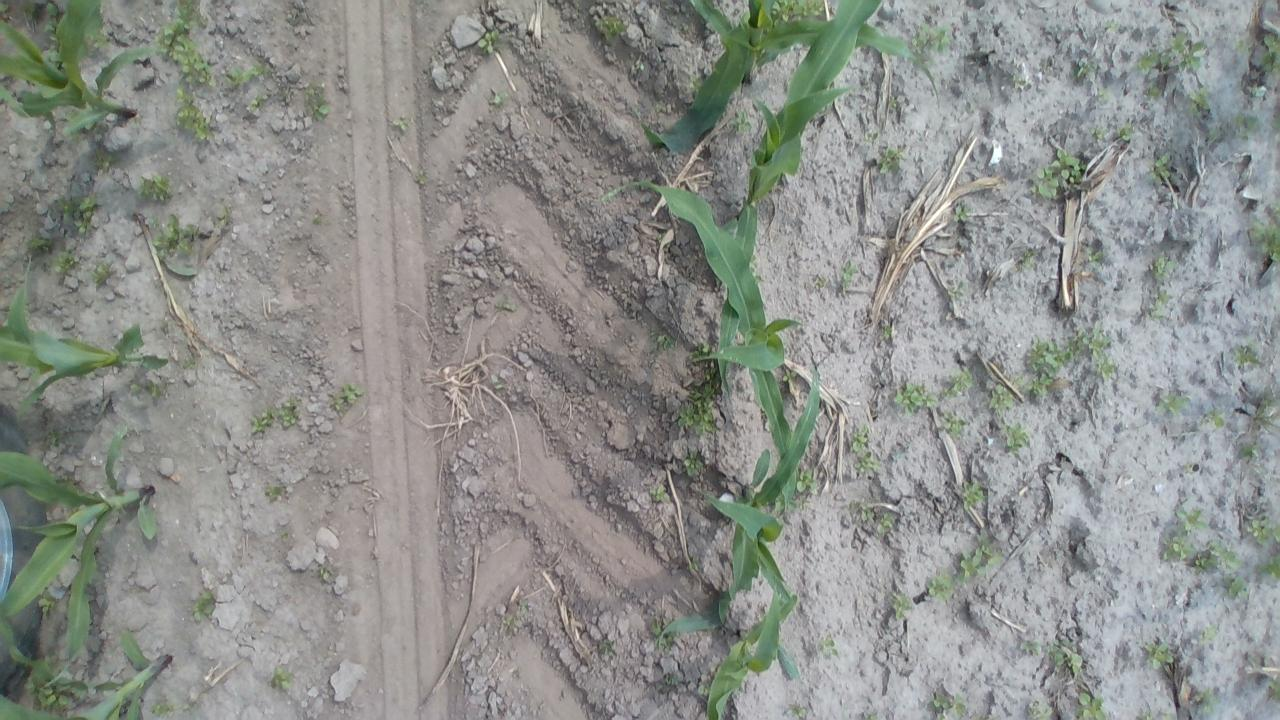Maize: (598, 166, 818, 499), (712, 1, 887, 412), (618, 1, 942, 157), (672, 340, 822, 665), (0, 426, 158, 666), (0, 253, 169, 424), (0, 0, 159, 141), (0, 617, 175, 720), (697, 589, 801, 720)
Weeds: (154, 0, 212, 90), (1014, 332, 1088, 399), (672, 340, 719, 436), (1031, 147, 1087, 199), (958, 533, 1004, 581), (176, 89, 217, 142), (25, 673, 80, 708), (152, 216, 196, 258), (848, 498, 896, 536), (54, 195, 98, 234), (1250, 205, 1280, 262), (1209, 111, 1260, 144), (768, 1, 827, 28), (1046, 637, 1084, 677), (1166, 30, 1204, 68), (911, 19, 952, 54), (892, 380, 932, 415), (1245, 514, 1280, 548), (929, 689, 967, 720), (1074, 323, 1108, 357), (1142, 638, 1174, 672), (332, 380, 364, 413), (224, 62, 268, 86), (138, 173, 173, 203), (1256, 393, 1280, 436), (1210, 542, 1242, 574), (999, 422, 1031, 454), (304, 82, 329, 121), (1174, 507, 1210, 534), (651, 618, 678, 654), (1159, 534, 1193, 562), (1258, 33, 1280, 75), (596, 12, 628, 40), (274, 396, 302, 428), (878, 144, 906, 176), (1156, 390, 1190, 416), (1075, 692, 1106, 720), (947, 366, 974, 398), (505, 598, 530, 632), (1231, 340, 1261, 368), (476, 27, 504, 57), (794, 465, 820, 496), (192, 588, 216, 621), (1194, 687, 1218, 719), (927, 574, 954, 602), (51, 248, 78, 276), (960, 479, 986, 508), (90, 255, 114, 286), (888, 592, 912, 623), (250, 406, 276, 434), (1151, 152, 1173, 185), (838, 260, 862, 290), (1257, 672, 1280, 703), (41, 1, 60, 38), (1150, 253, 1174, 282), (1148, 289, 1172, 318), (274, 73, 294, 107), (1188, 88, 1214, 114), (942, 412, 968, 438), (1222, 576, 1250, 600), (1092, 354, 1117, 380), (990, 385, 1014, 412), (268, 664, 292, 690), (88, 147, 116, 169), (732, 106, 752, 136), (152, 697, 178, 720), (134, 379, 165, 398), (26, 234, 54, 255), (1257, 556, 1280, 581), (182, 356, 204, 382), (683, 452, 704, 479), (818, 634, 839, 659), (652, 330, 678, 350), (216, 204, 232, 236), (1136, 50, 1158, 73), (247, 90, 270, 112), (88, 27, 109, 51), (1028, 699, 1052, 720), (851, 426, 869, 453), (1192, 551, 1214, 573), (1020, 635, 1042, 657), (650, 484, 671, 507), (786, 700, 810, 720), (681, 550, 702, 572), (856, 452, 878, 473), (1200, 410, 1224, 429), (1083, 245, 1103, 267), (494, 296, 518, 314), (56, 472, 81, 489), (86, 124, 107, 144), (596, 636, 616, 657), (1238, 440, 1260, 459), (488, 86, 506, 108), (688, 73, 706, 95), (263, 483, 283, 502), (1090, 124, 1108, 144), (36, 597, 56, 615), (954, 202, 970, 224), (1142, 82, 1160, 101), (1073, 62, 1094, 78), (46, 426, 62, 447), (392, 118, 414, 133), (1116, 124, 1134, 142), (1232, 36, 1250, 54), (1016, 251, 1036, 267), (318, 562, 334, 582), (948, 282, 965, 300), (1202, 621, 1218, 640), (1095, 88, 1114, 104), (1138, 710, 1168, 720), (880, 326, 894, 346), (782, 368, 799, 383), (1102, 18, 1120, 32), (183, 702, 202, 715), (1013, 74, 1028, 90), (1180, 461, 1196, 476), (414, 168, 428, 185), (662, 672, 678, 686), (634, 55, 646, 73), (863, 710, 882, 720), (814, 276, 826, 291), (697, 683, 708, 698), (888, 96, 901, 108), (654, 103, 668, 113), (1272, 116, 1280, 132), (313, 214, 324, 223)
